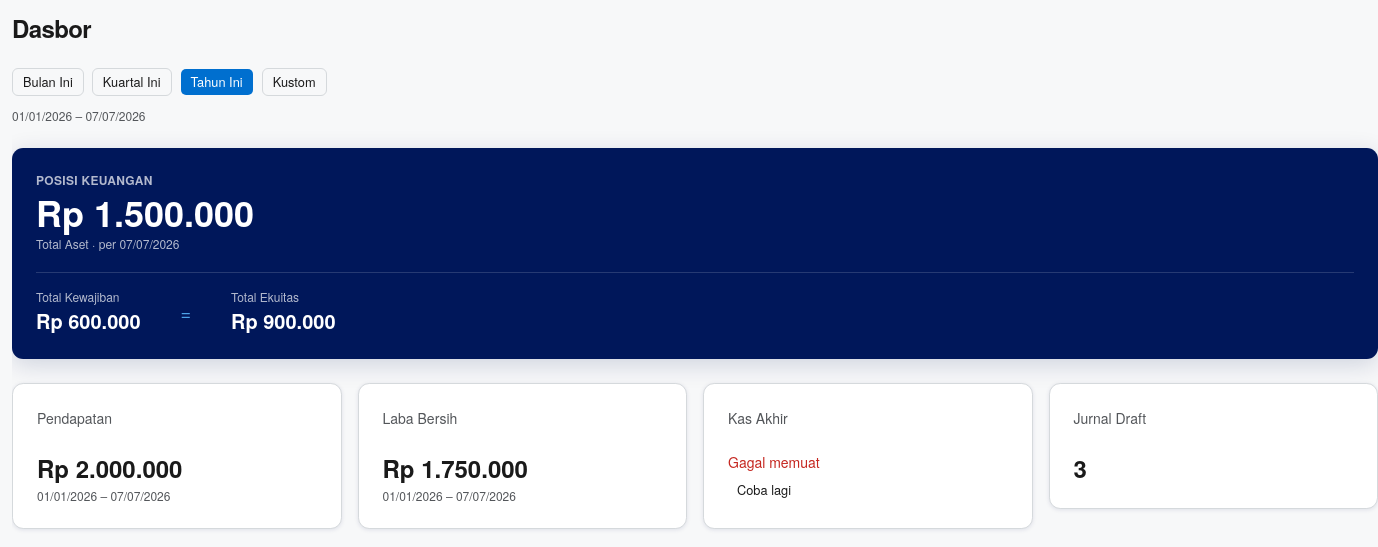
shows an error + retry when cash-flow fails, leaving other cards intact
The width and height of the screenshot is (1378, 547).
Expected: the text "Gagal memuat" is shown, [728,452,820,472]
Expected: the text "Rp 1.500.000" is shown, [36,186,254,238]
Click the button "Coba lagi". click: click(764, 490)
box: [728,476,800,504]
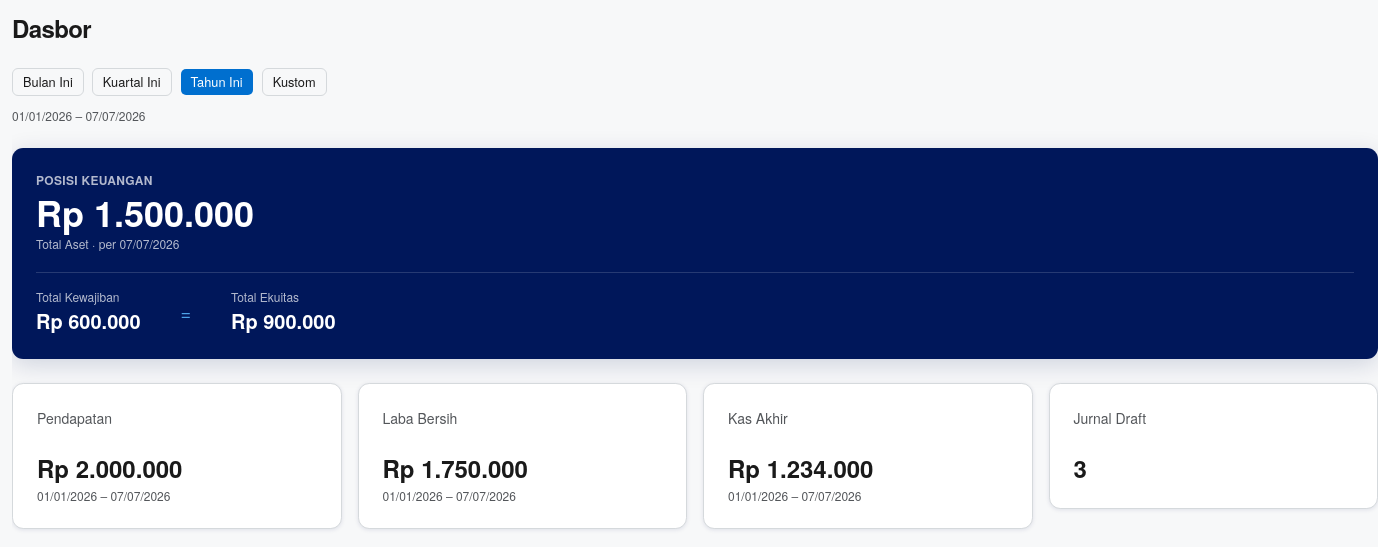
Result: the text "Rp 1.234.000" is shown at [728,451,873,485]
